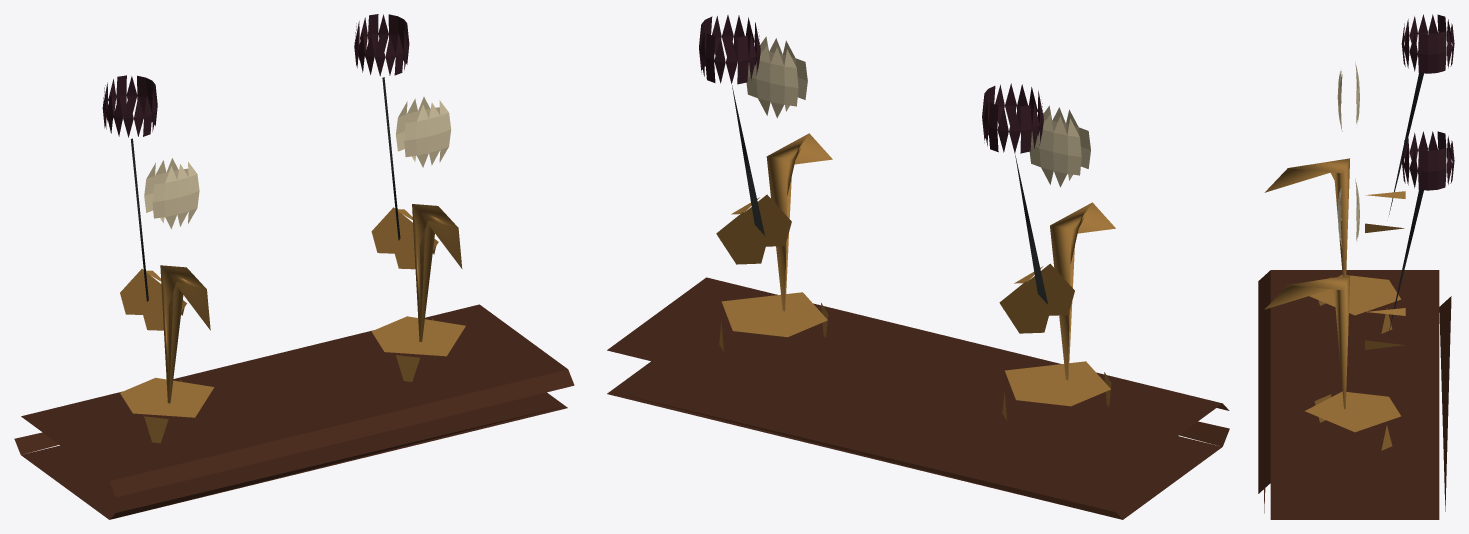
The model's file is TwinBeerPump.glb.
The picture shows the model from 3 angles, left to right: view 1: azimuth 30°, elevation 25°; view 2: azimuth 150°, elevation 25°; view 3: azimuth 270°, elevation 25°; orthographic projection. The views are drawn at different scales.
Visible parts, largest first — view 1: OakPumpPlinth, BrassCollar.001, BrassCollar, PumpNeck, PumpNeck.001, IvoryPumpBadge.001, IvoryPumpBadge, BurgundyPullHandle.001, BurgundyPullHandle, HandlePivot.001, HandlePivot; view 2: OakPumpPlinth, BrassCollar.001, BrassCollar, IvoryPumpBadge.001, IvoryPumpBadge, BurgundyPullHandle.001, BurgundyPullHandle, HandlePivot, HandlePivot.001, PumpNeck, PumpNeck.001, PullLever (+1 smaller); view 3: OakPumpPlinth, BrassCollar.001, BurgundyPullHandle, BurgundyPullHandle.001, PumpNeck.001, PumpNeck, BrassCollar, PullLever.001, PullLever, HandlePivot.001, HandlePivot, IvoryPumpBadge.001 (+1 smaller).
Part boxes in pixels (<box>): OakPumpPlinth: <box>14,304,574,519</box>; BrassCollar.001: <box>371,316,465,381</box>; BrassCollar: <box>120,377,214,443</box>; PumpNeck: <box>160,265,210,417</box>; PumpNeck.001: <box>412,204,462,355</box>; IvoryPumpBadge.001: <box>396,97,451,167</box>; IvoryPumpBadge: <box>144,158,199,228</box>; BurgundyPullHandle.001: <box>354,14,409,76</box>; BurgundyPullHandle: <box>102,75,157,137</box>; HandlePivot.001: <box>371,207,438,269</box>; HandlePivot: <box>120,269,186,330</box>; OakPumpPlinth: <box>607,277,1229,519</box>; BrassCollar.001: <box>719,292,828,351</box>; BrassCollar: <box>1002,361,1111,420</box>; IvoryPumpBadge.001: <box>746,36,807,118</box>; IvoryPumpBadge: <box>1029,105,1090,187</box>; BurgundyPullHandle.001: <box>699,15,760,84</box>; BurgundyPullHandle: <box>982,83,1043,153</box>; HandlePivot: <box>999,263,1074,333</box>; HandlePivot.001: <box>716,194,791,264</box>; PumpNeck: <box>1050,202,1115,380</box>; PumpNeck.001: <box>766,133,832,311</box>; PullLever: <box>1015,153,1048,304</box>; OakPumpPlinth: <box>1258,270,1451,519</box>; BrassCollar.001: <box>1305,391,1400,450</box>; BurgundyPullHandle: <box>1401,14,1454,73</box>; BurgundyPullHandle.001: <box>1401,131,1454,190</box>; PumpNeck.001: <box>1264,275,1349,408</box>; PumpNeck: <box>1264,158,1349,276</box>; BrassCollar: <box>1309,274,1401,333</box>; PullLever.001: <box>1388,190,1423,334</box>; PullLever: <box>1389,73,1423,214</box>; HandlePivot.001: <box>1365,308,1405,349</box>; HandlePivot: <box>1365,191,1405,232</box>; IvoryPumpBadge.001: <box>1337,179,1359,248</box>.
Bounding box in the file's own units: 2.48 × 1.8 × 0.965.
